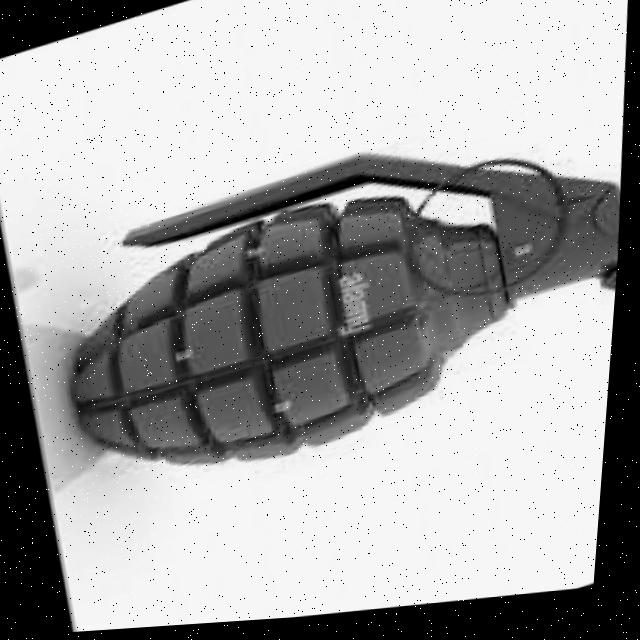grenade: (10, 89, 633, 529)
